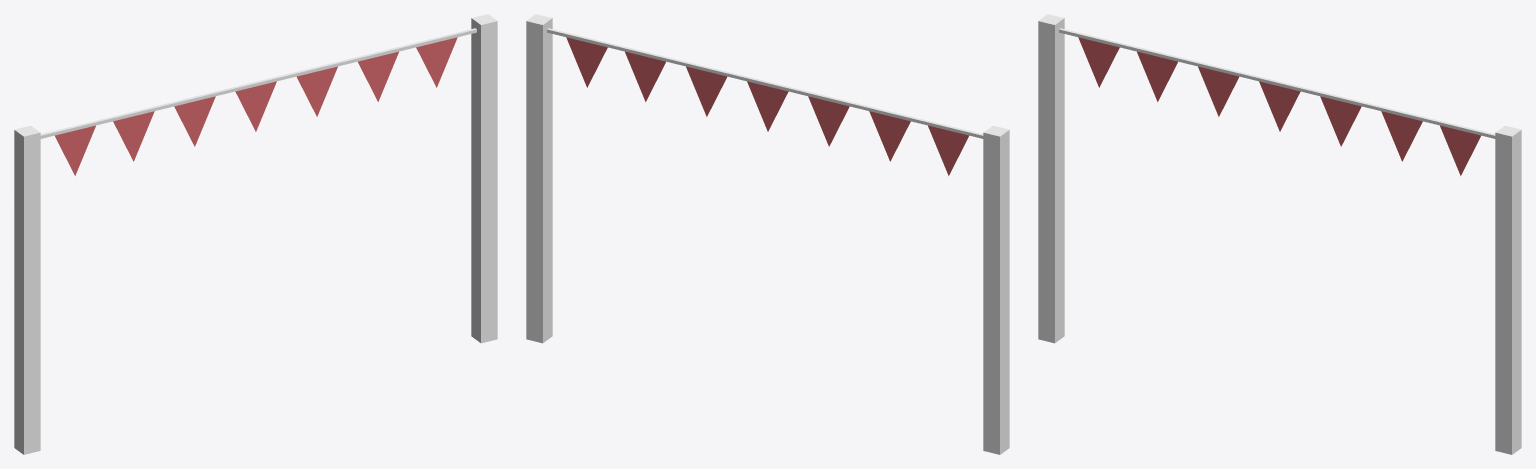
The model's file is FinishArch.fbx.
The picture shows the model from 3 angles, left to right: view 1: azimuth 30°, elevation 25°; view 2: azimuth 150°, elevation 25°; view 3: azimuth 330°, elevation 25°; orthographic projection.
Parts seen in each view (by area): view 1: Finish Arch; view 2: Finish Arch; view 3: Finish Arch.
Part boxes in pixels (x1,y1,x2,y2): Finish Arch: (14,14,497,454); Finish Arch: (526,14,1009,454); Finish Arch: (1038,14,1521,454).
Size of the model in its own units: 891 by 572 by 31.46.
